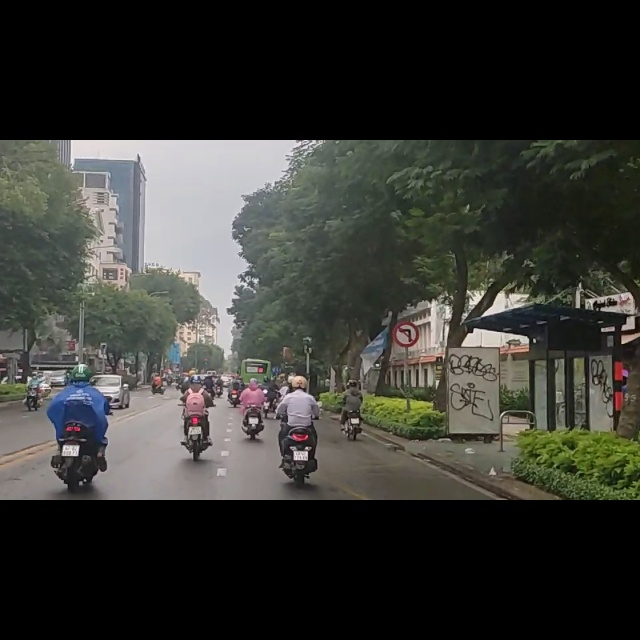bien_hieu_lenh: (393, 325, 419, 370)
